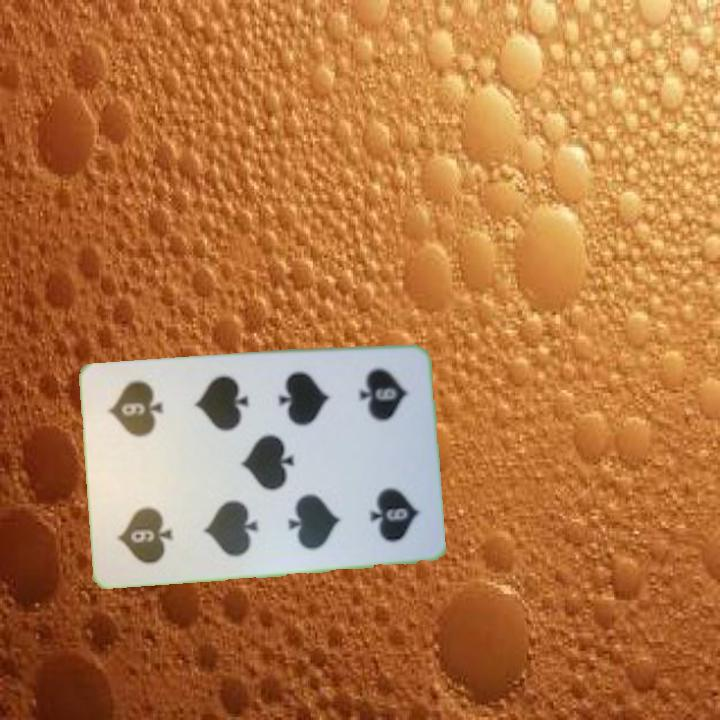s_9.png: (102, 466, 194, 572), (331, 356, 423, 461)
